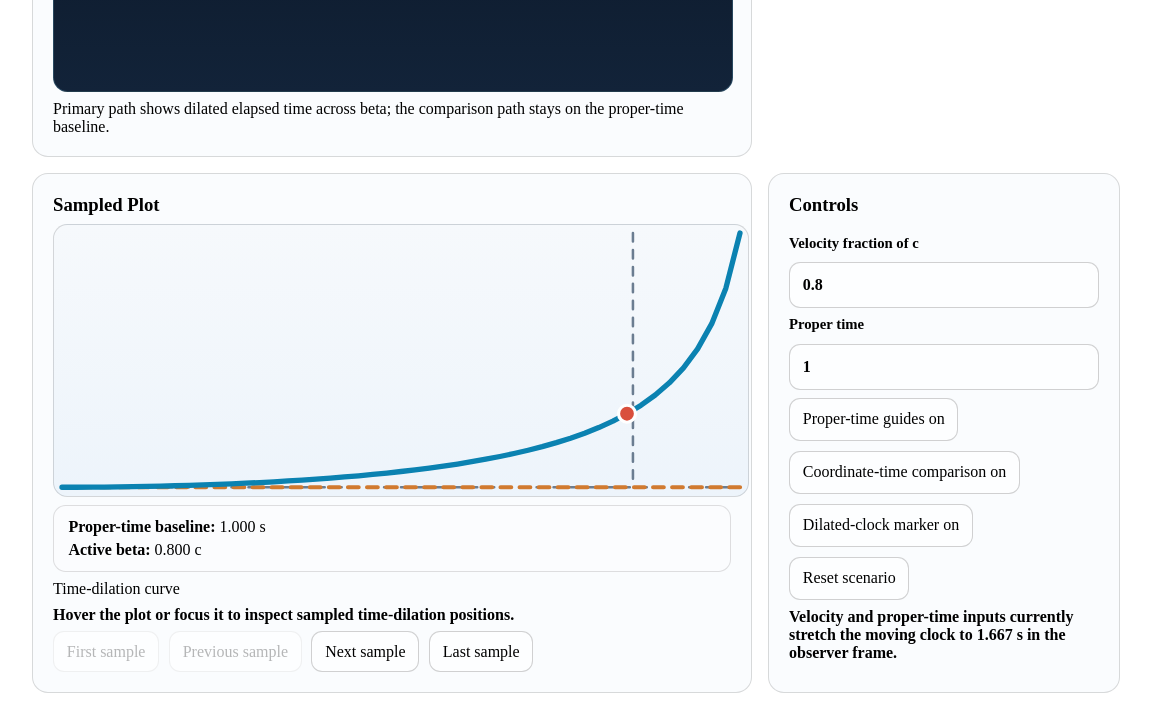
RelativityPageComponent › focuses the plot to expose a sampled readout
(page scrolled)
Step 1. Focus the picture named "Time-dilation curve" → point(401, 360), box [53,224,749,497]
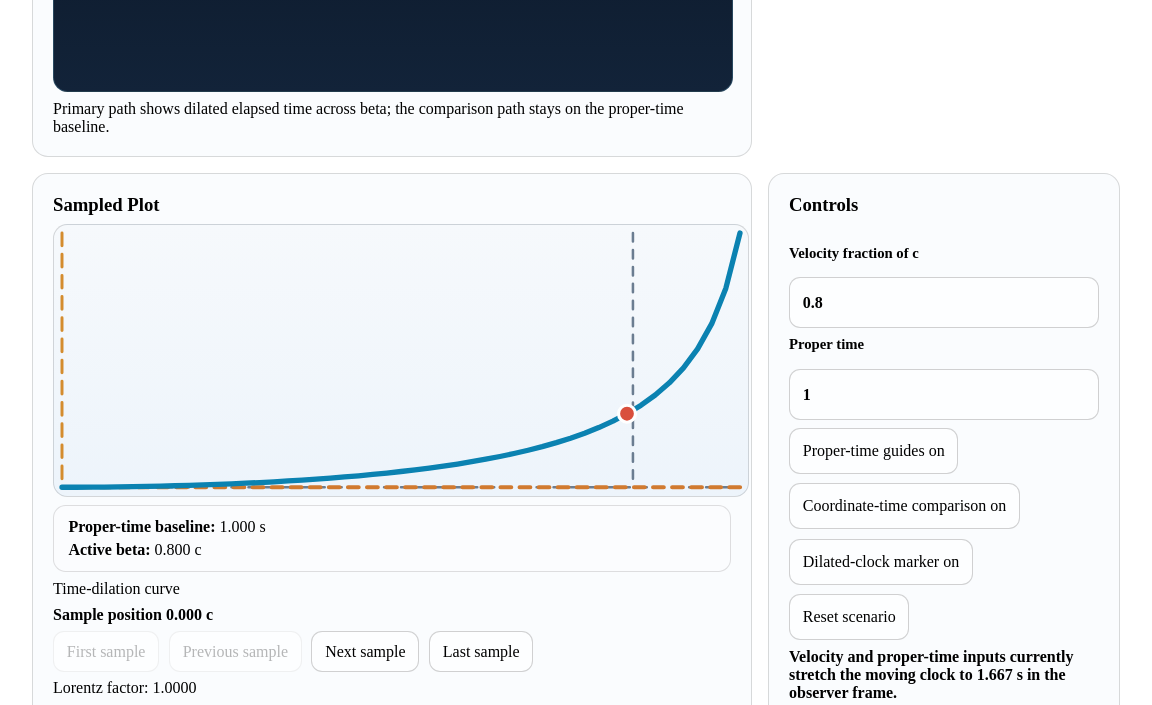
Now the text "Sample position 0.000 c" is shown, box [53,606,213,623]
Now the text "Lorentz factor: 1.0000" is shown, box [53,679,196,696]
